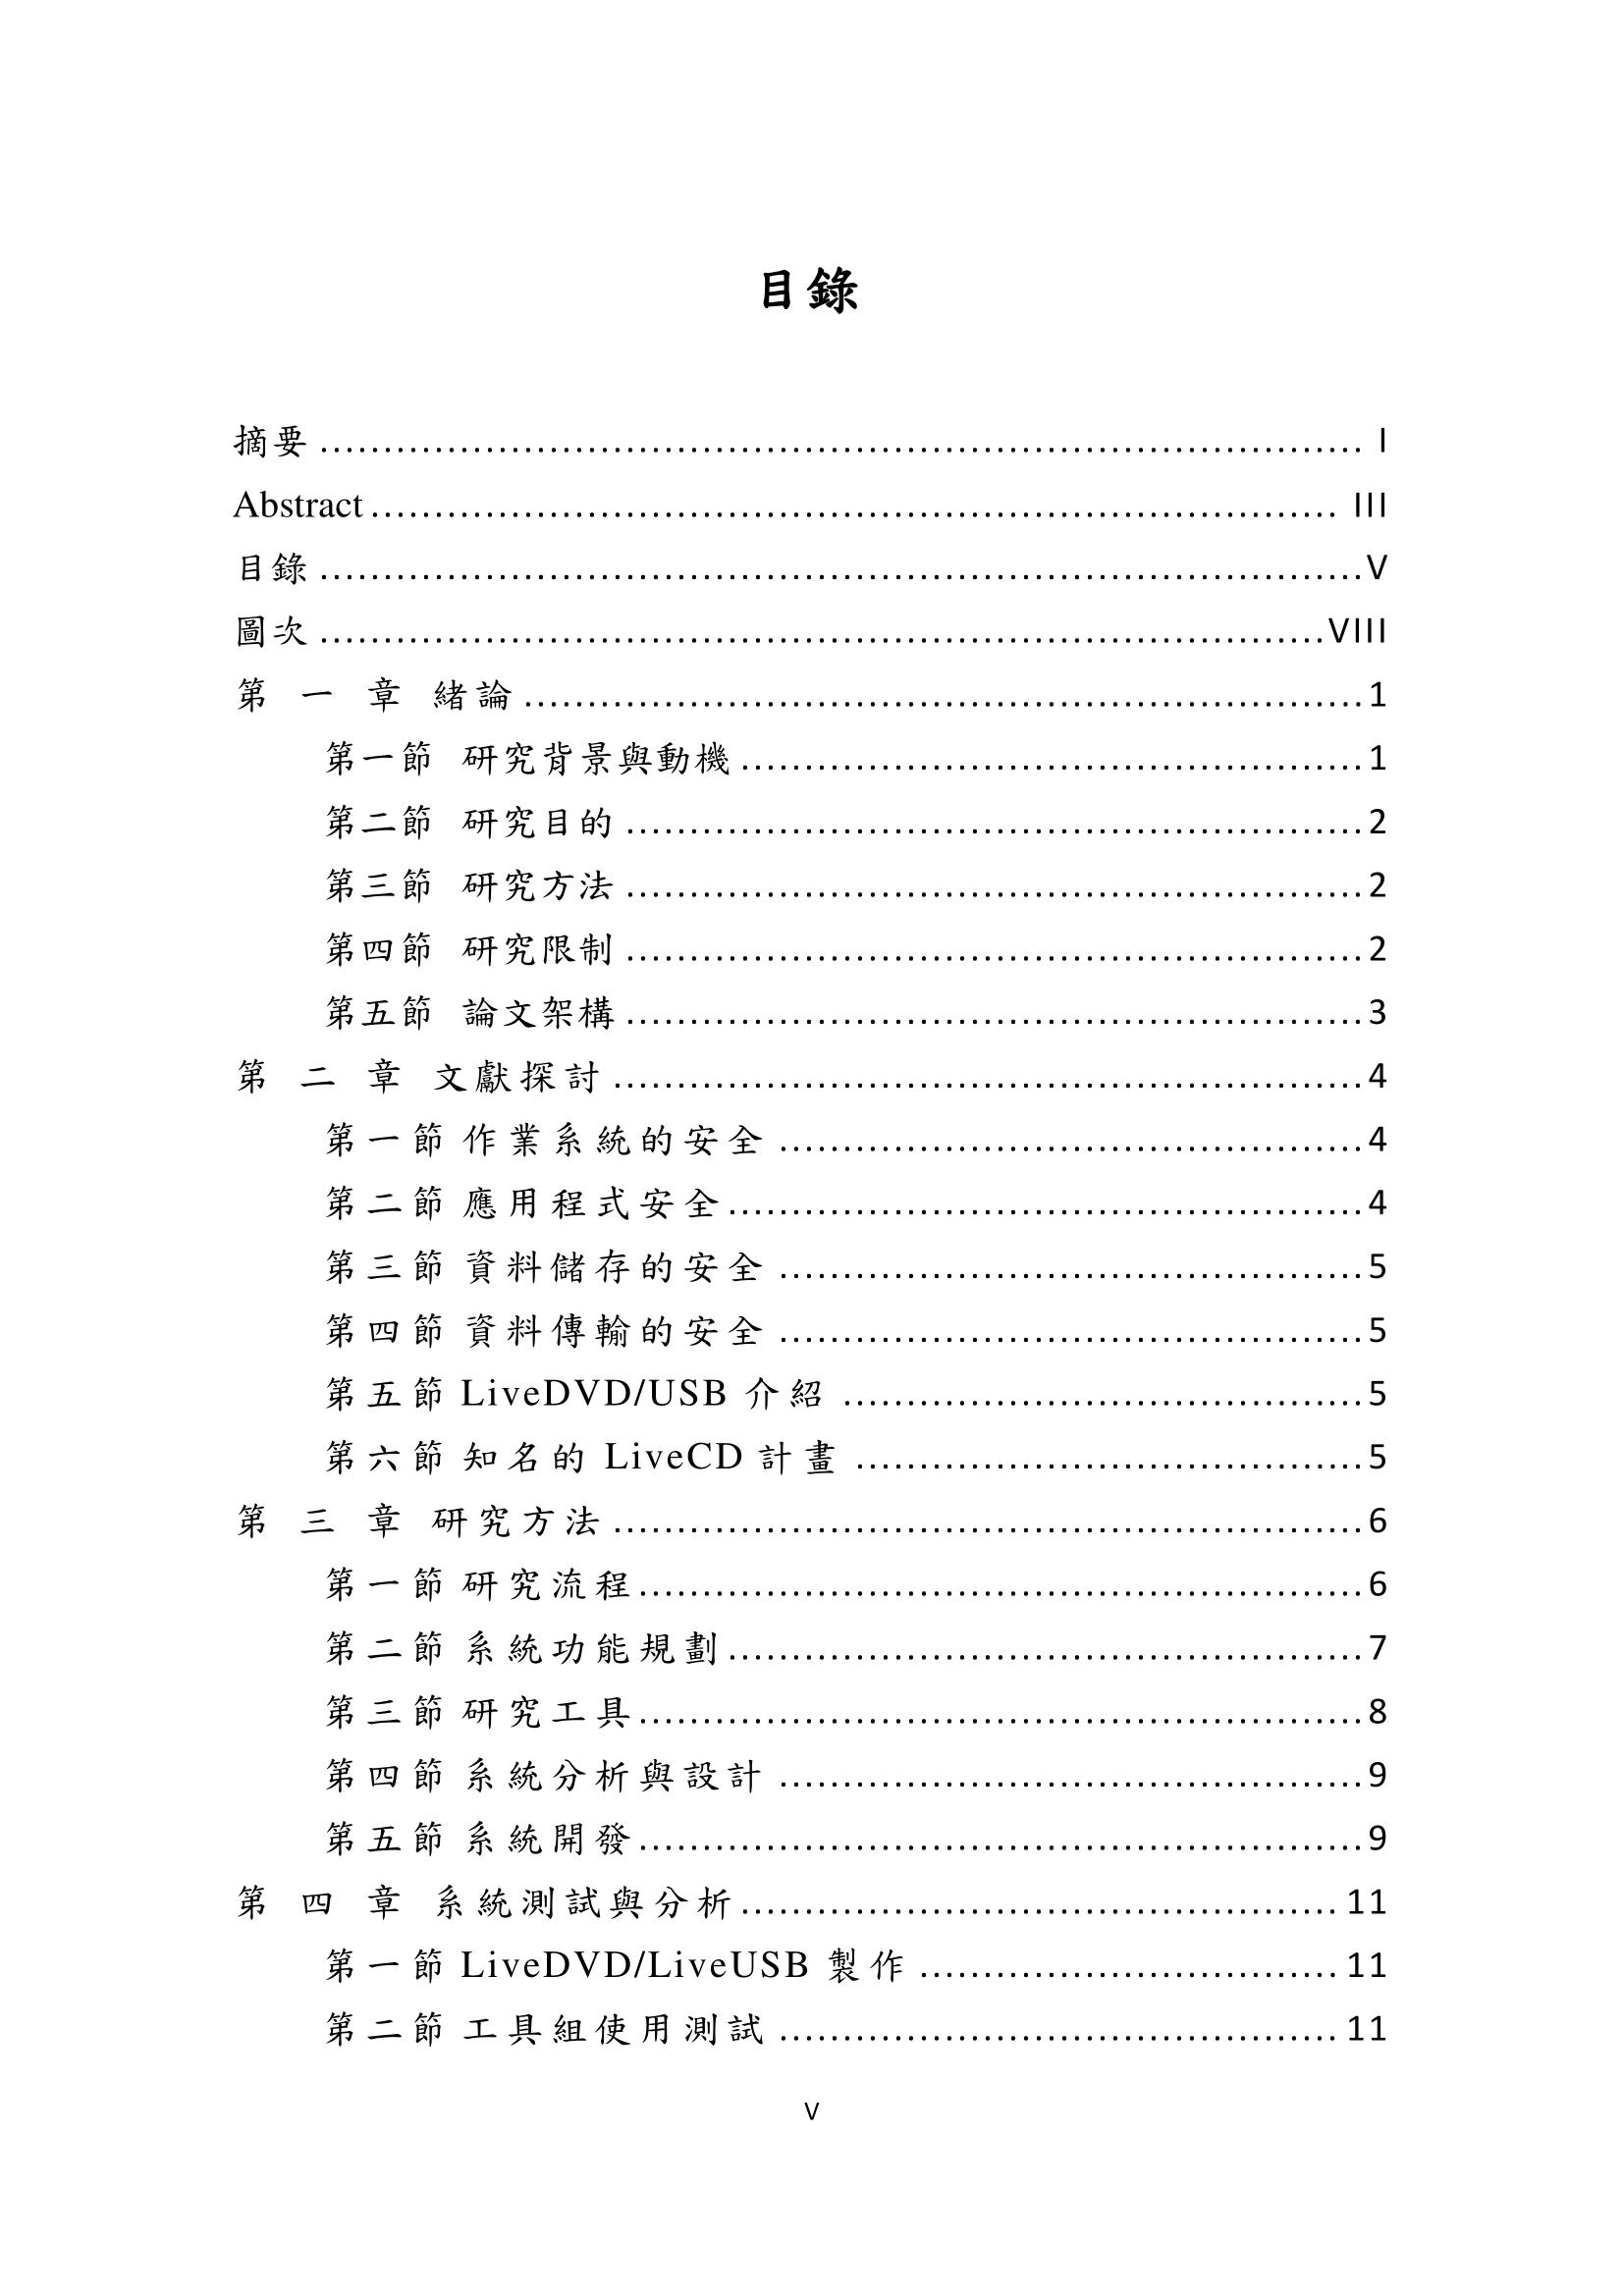text: (214, 408, 1431, 2076), (722, 255, 919, 329)
